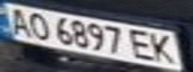6: (48, 15, 75, 46)
7: (103, 24, 127, 56)
8: (66, 18, 90, 50)
9: (84, 20, 106, 52)
A: (3, 4, 33, 36)
E: (127, 27, 157, 62)
K: (145, 30, 181, 65)
O: (24, 10, 54, 40)
